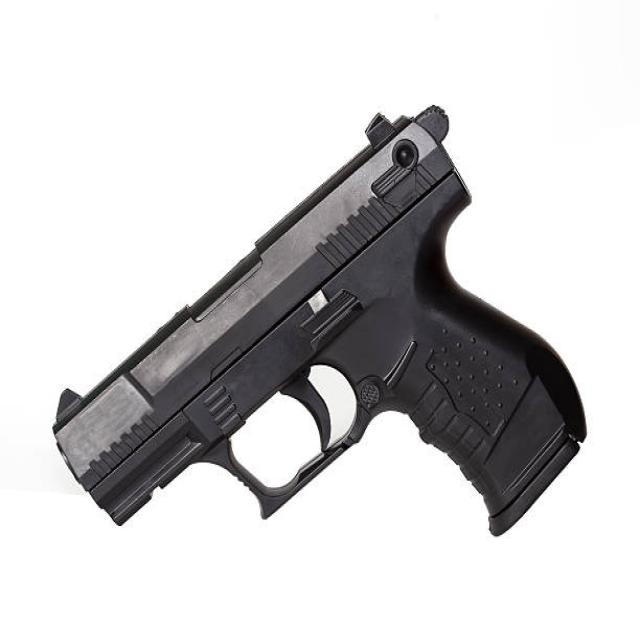pistol: (52, 106, 595, 538)
